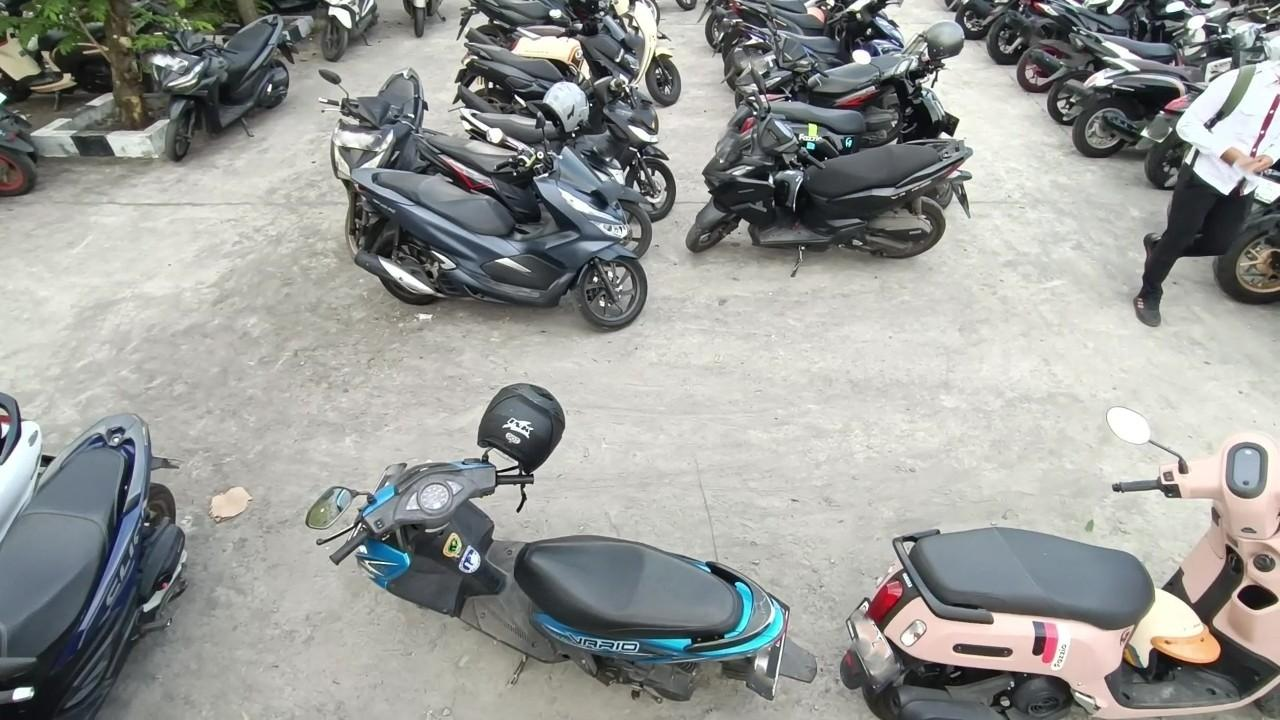motorcycle: (290, 376, 819, 708), (845, 402, 1280, 720), (347, 129, 654, 342), (0, 405, 185, 720), (699, 79, 961, 273), (1074, 0, 1280, 156), (723, 4, 939, 145), (451, 0, 658, 141), (139, 10, 299, 153), (311, 70, 428, 240), (507, 0, 686, 104)
